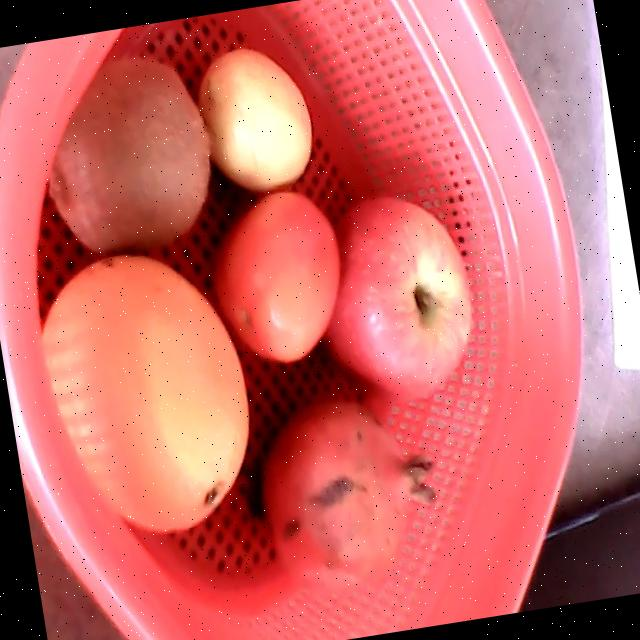apple: (322, 191, 473, 398)
kiwi: (48, 56, 212, 252)
lemon: (198, 47, 313, 190)
orange: (43, 255, 249, 535)
pomegranate: (260, 401, 434, 598)
tomato: (214, 192, 338, 362)
